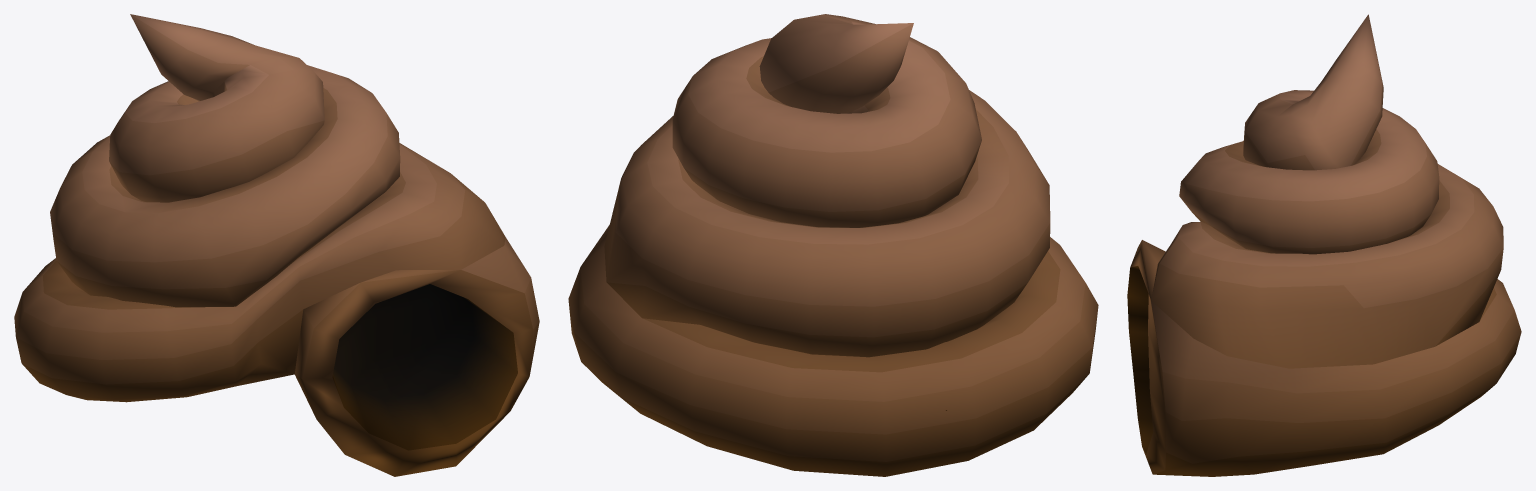
The model's file is Turdtle.fbx.
The picture shows the model from 3 angles, left to right: view 1: azimuth 30°, elevation 25°; view 2: azimuth 150°, elevation 25°; view 3: azimuth 270°, elevation 25°; orthographic projection. The views are drawn at different scales.
Parts seen in each view (by area): view 1: NurbsPath; view 2: NurbsPath; view 3: NurbsPath.
Boxes of the visible parts, left/top/right/bottom form: NurbsPath: left=14, top=14, right=539, bottom=476; NurbsPath: left=568, top=14, right=1098, bottom=476; NurbsPath: left=1127, top=14, right=1521, bottom=476.
Bounding box in the file's own units: 306 × 279 × 269.
1 material, 1 textured.
